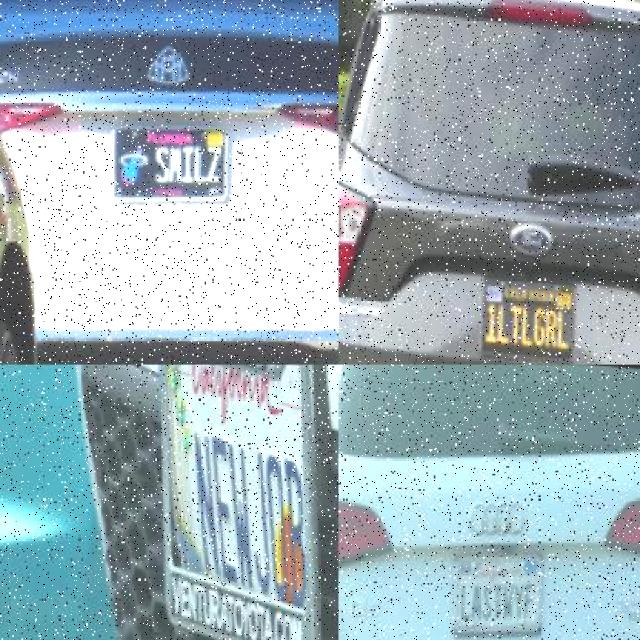licenseplate: (132, 364, 338, 640), (484, 262, 594, 360), (451, 537, 551, 640), (116, 121, 234, 198)
